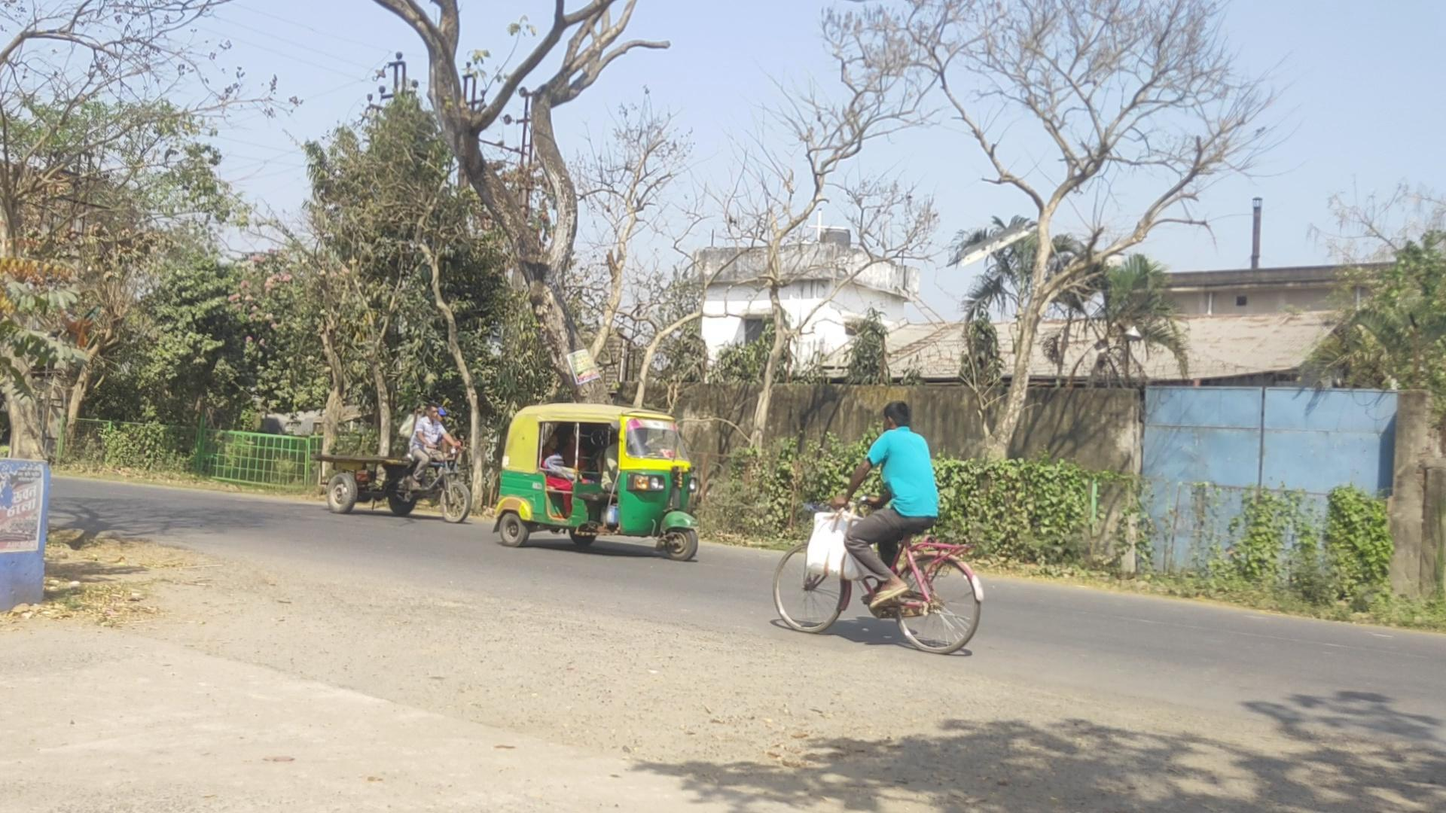Auto: (492, 403, 701, 562)
bike: (772, 401, 986, 654)
